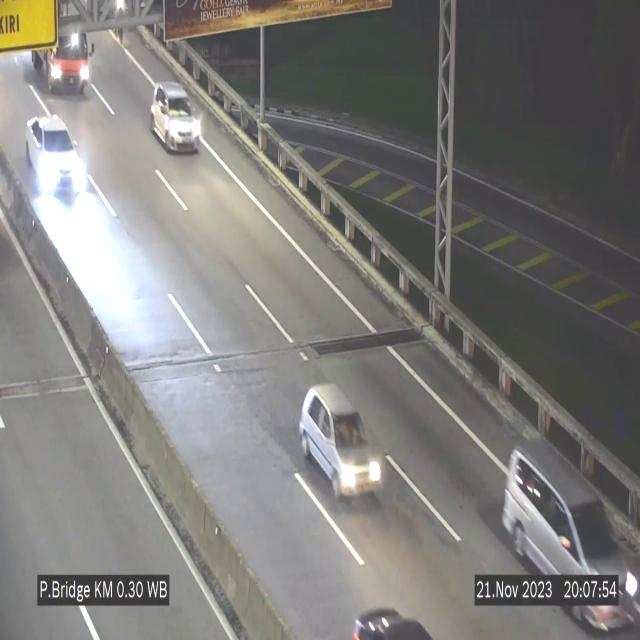Car: (299, 385, 389, 498), (26, 116, 86, 191), (151, 82, 201, 152)
